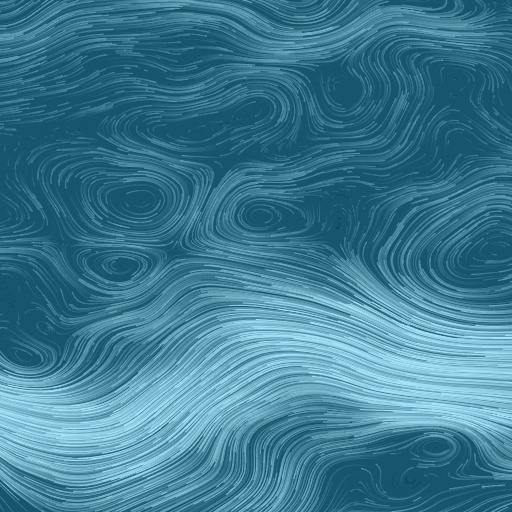eddy: (136, 83, 289, 157), (76, 162, 190, 242), (232, 195, 312, 241), (82, 245, 155, 291), (411, 430, 461, 463), (471, 233, 510, 269), (3, 342, 47, 369)
